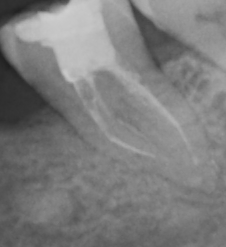fracture: (108, 135, 156, 163)
